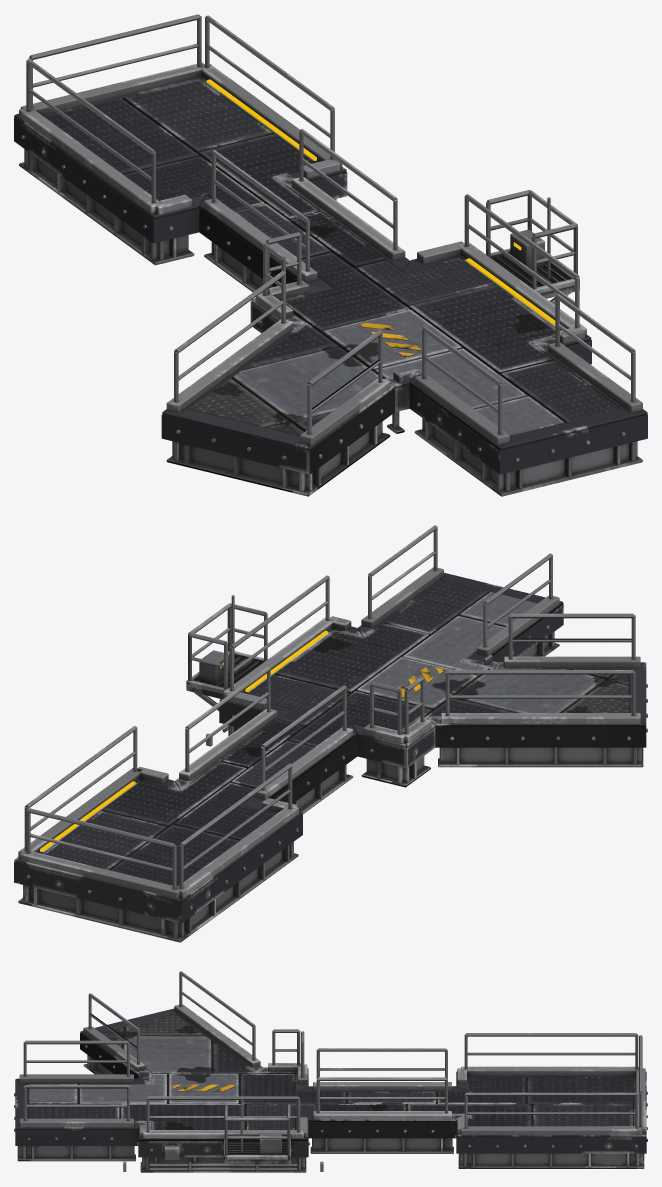
Rendered from nodexeus-set-deck-s3.glb.
3 views of the same model, one above another, from view 1: azimuth 30°, elevation 25°; view 2: azimuth 150°, elevation 25°; view 3: azimuth 270°, elevation 25° (orthographic). The views are drawn at different scales.
Visible parts, largest first — view 1: set-deck-s3; view 2: set-deck-s3; view 3: set-deck-s3.
Boxes of the visible parts, <box> form: set-deck-s3: <box>14,14,647,496</box>; set-deck-s3: <box>14,525,647,942</box>; set-deck-s3: <box>14,971,647,1172</box>.
Size of the model in its own units: 7.91 by 2.13 by 14.16.
1 material, 1 textured.
